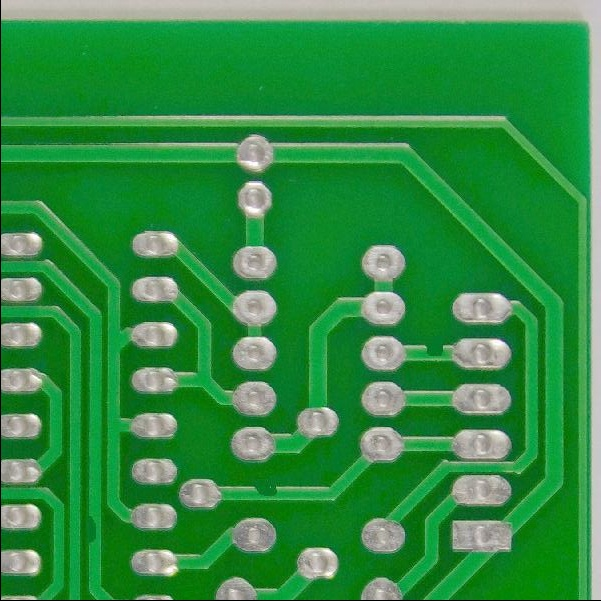mouse_bite: (78, 508, 104, 552), (246, 477, 279, 507), (419, 338, 449, 364)
